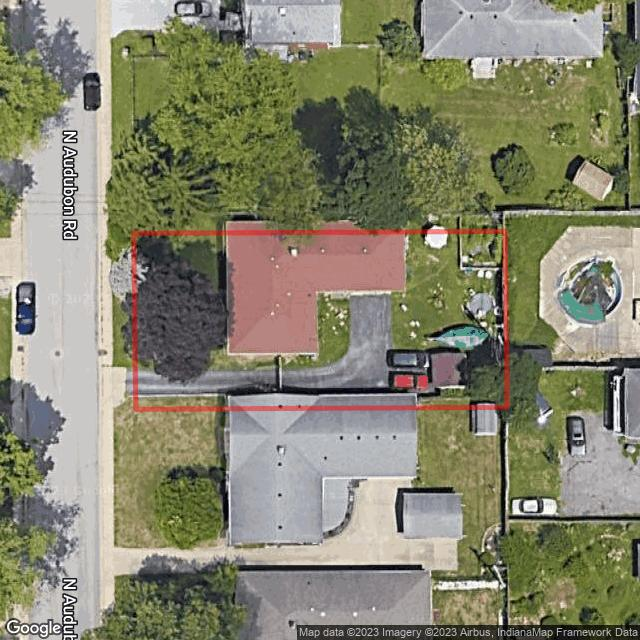Driveway: (282, 295, 440, 397), (137, 368, 279, 396), (322, 290, 391, 300)
Extra Driveway: (113, 367, 133, 408)
Extra Lawn: (111, 232, 133, 371), (114, 396, 133, 412)
House: (225, 234, 406, 354)
Other: (227, 394, 417, 407), (430, 352, 466, 387), (391, 289, 408, 346), (465, 292, 495, 319), (425, 234, 448, 248)
